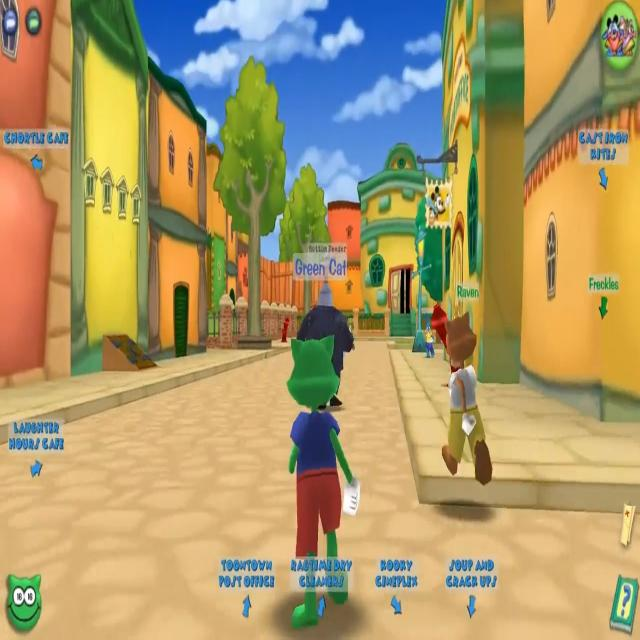bottomfeeder: (296, 242, 347, 406)
